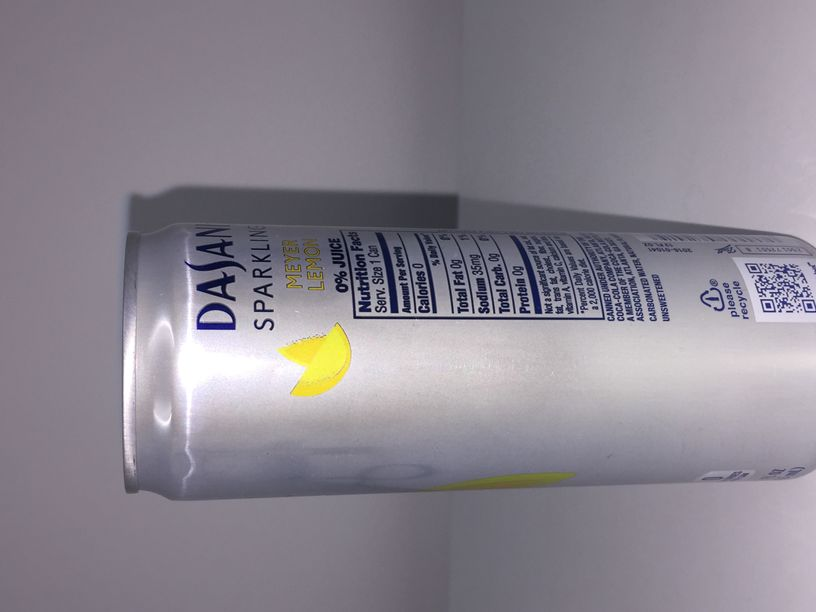lemon: (118, 222, 816, 507)
